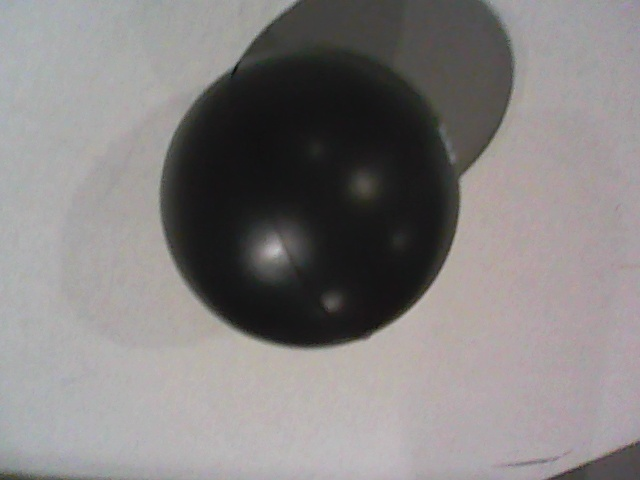ball: (159, 50, 461, 347)
